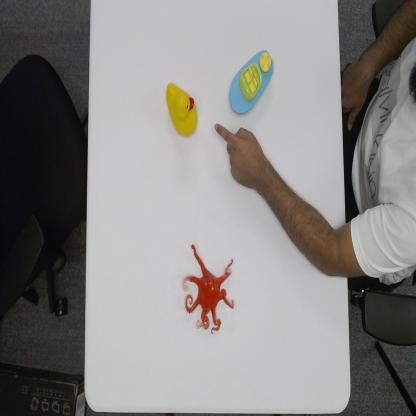Arm: (263, 152, 348, 281)
Boat: (228, 47, 276, 116)
Duck: (164, 80, 198, 140)
Hand: (213, 122, 268, 192)
Octopus: (181, 242, 235, 335)
